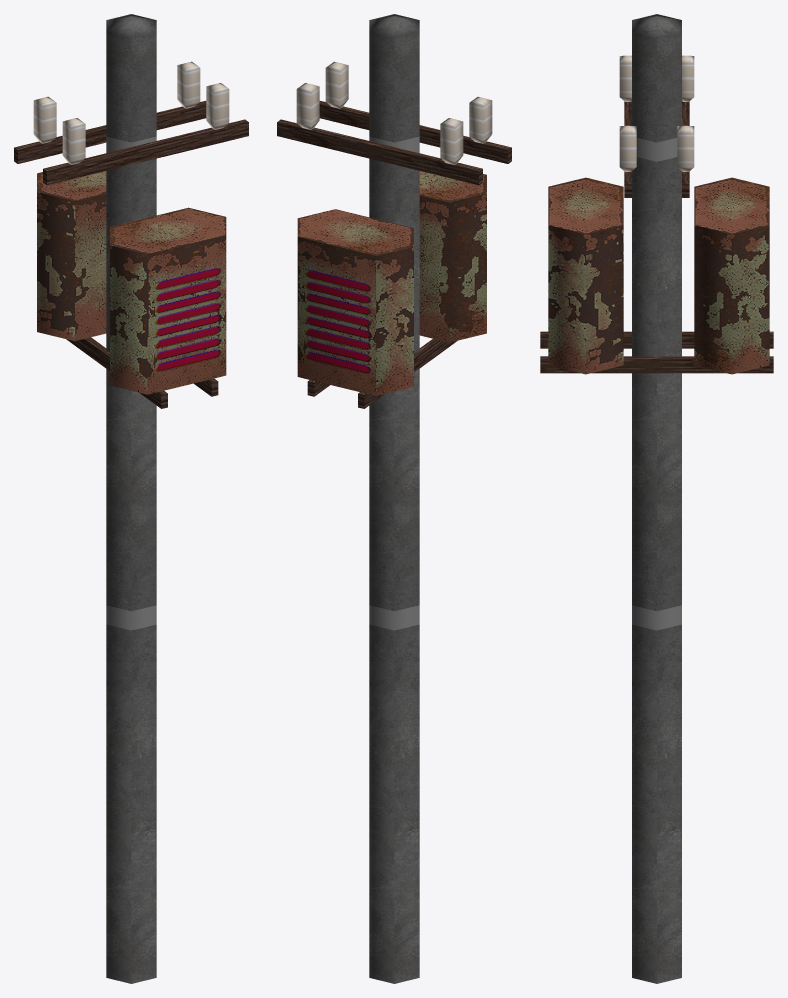
Rendered from ElectricPost02_Art.glb.
3 views of the same model, side by side, from view 1: azimuth 30°, elevation 25°; view 2: azimuth 150°, elevation 25°; view 3: azimuth 270°, elevation 25° (orthographic).
Visible parts, largest first — view 1: ElectricPost02_Art; view 2: ElectricPost02_Art; view 3: ElectricPost02_Art.
Boxes of the visible parts, left/top/right/bottom form: ElectricPost02_Art: left=14, top=14, right=248, bottom=983; ElectricPost02_Art: left=277, top=14, right=511, bottom=983; ElectricPost02_Art: left=540, top=14, right=773, bottom=983.
Bounding box in the file's own units: 2.31 × 10.43 × 2.31.
Materials: 1 (1 with a texture image).
